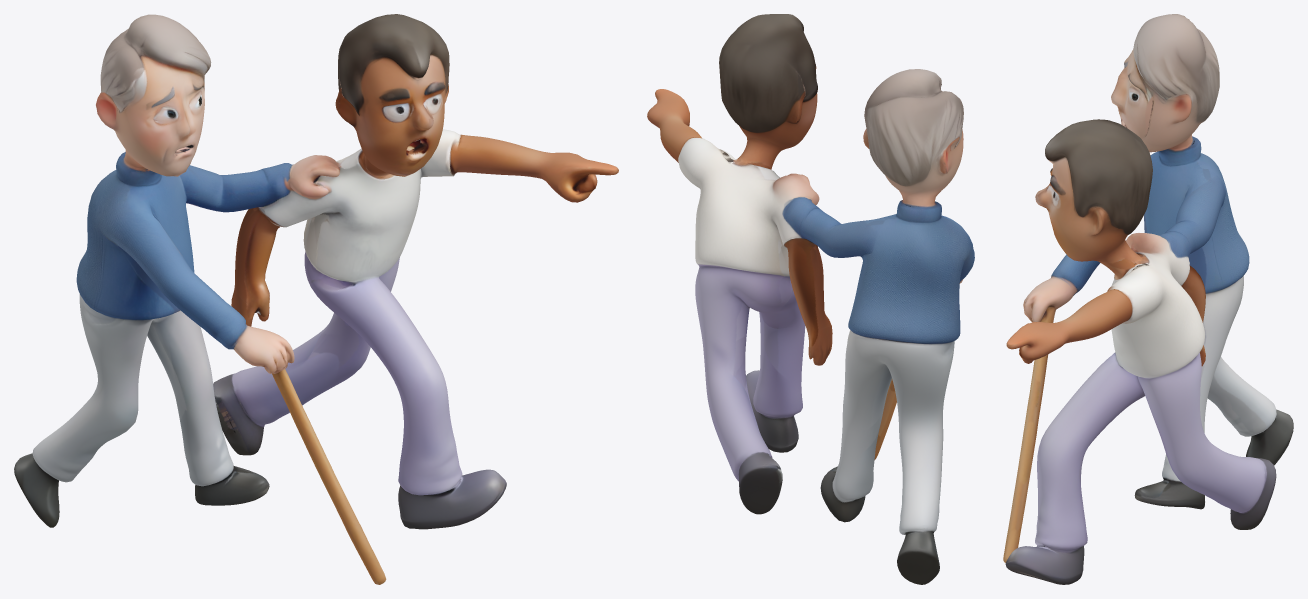
File: AdultosAceraEscuela.glb
The picture shows the model from 3 angles, left to right: view 1: azimuth 30°, elevation 25°; view 2: azimuth 150°, elevation 25°; view 3: azimuth 270°, elevation 25°; orthographic projection. The views are drawn at different scales.
Visible parts, largest first — view 1: model; view 2: model; view 3: model.
Boxes of the visible parts, x1=… form: model: x1=14, y1=14, x2=618, y2=584; model: x1=647, y1=14, x2=974, y2=584; model: x1=1003, y1=14, x2=1293, y2=584.
Bounding box in the file's own units: 1.7 × 1.9 × 1.03.
Materials: 1 (1 with a texture image).
